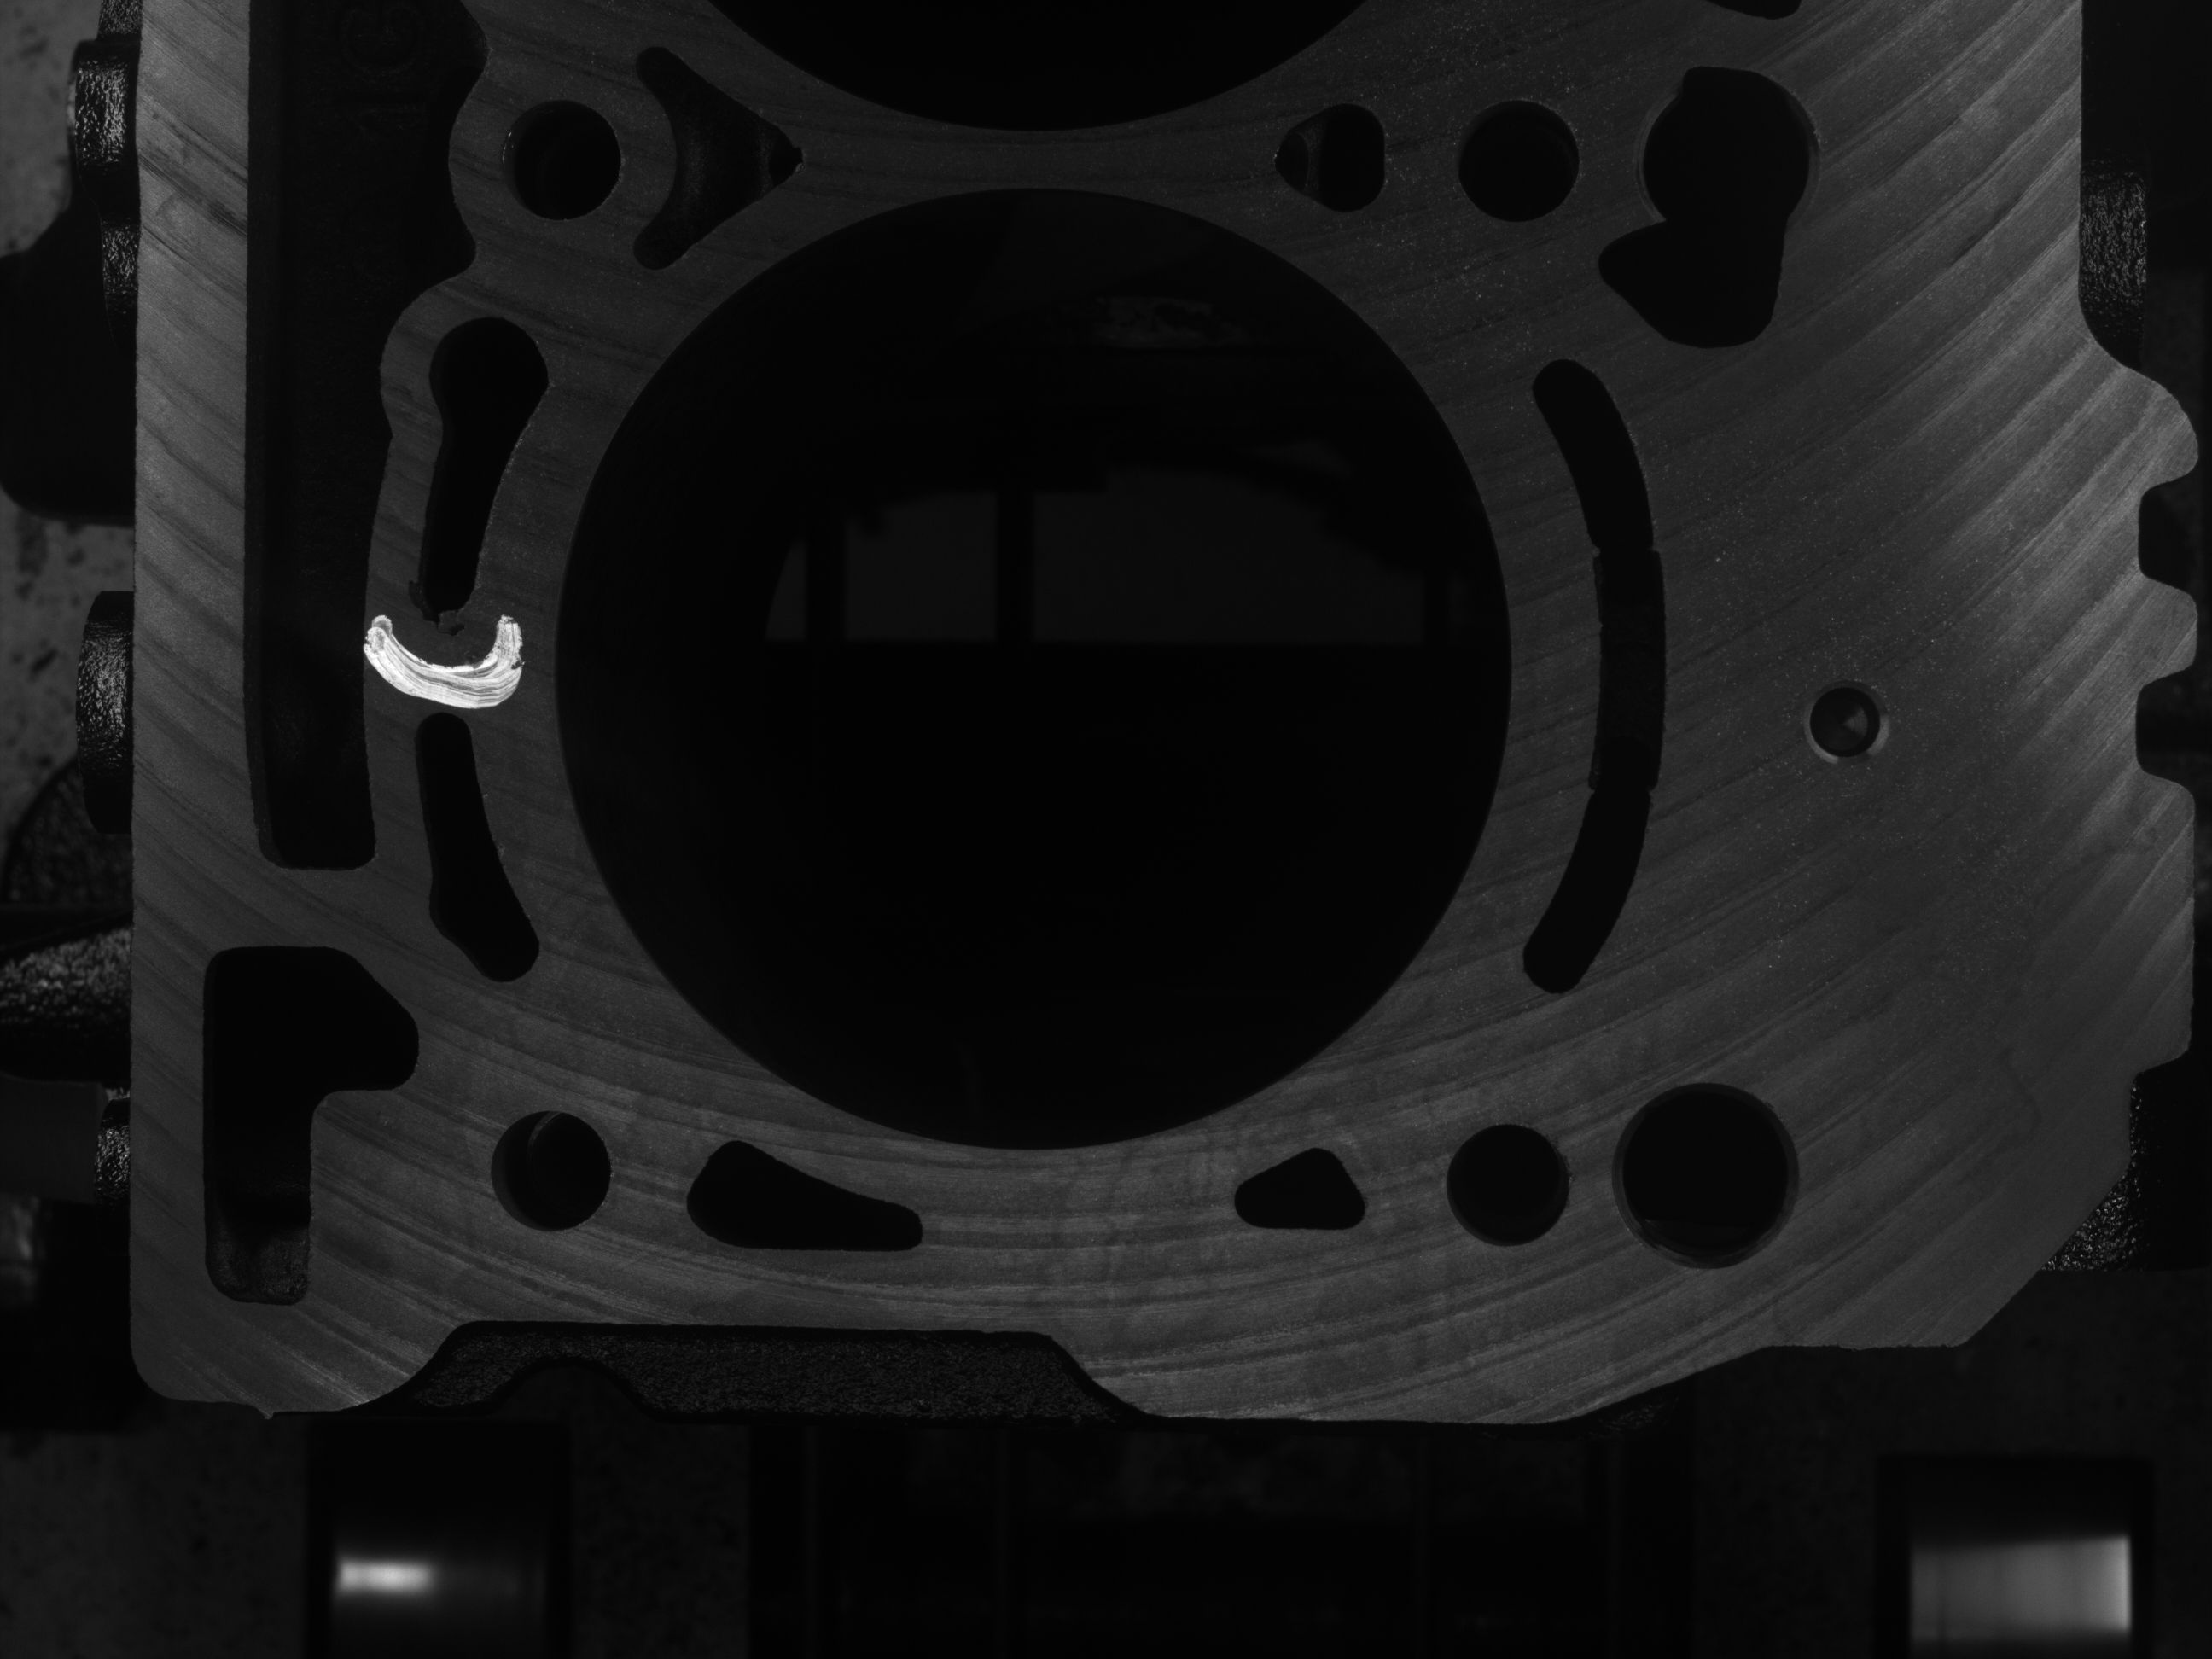shrinkage: (401, 575, 463, 624)
